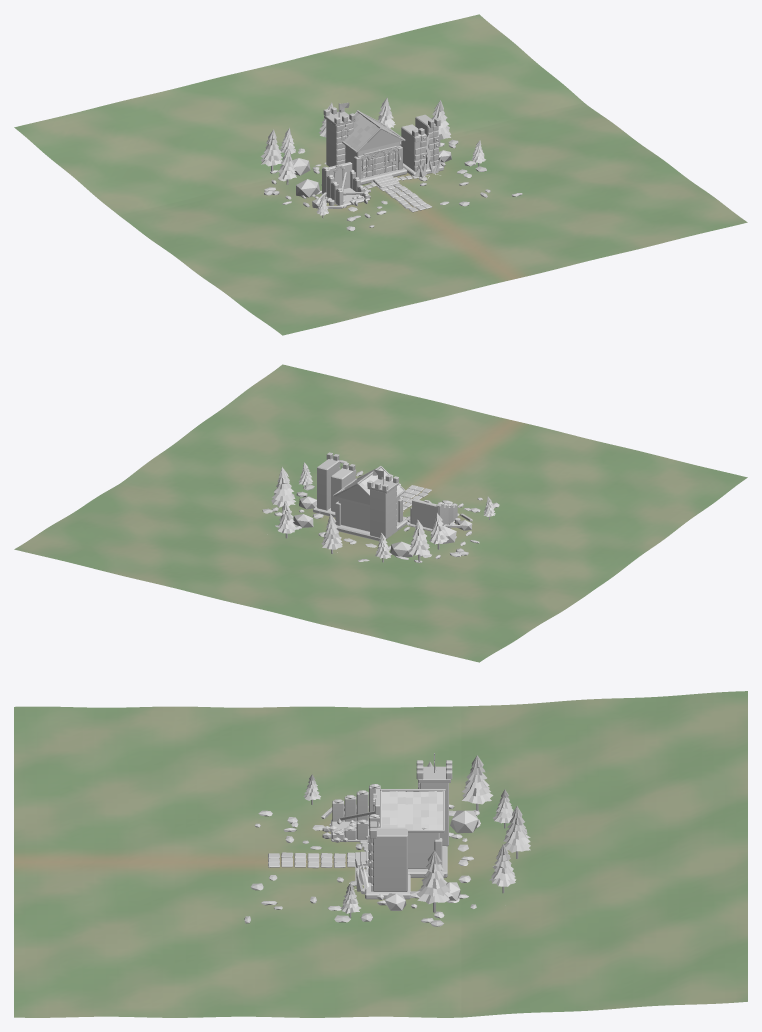
File: Reboot_Pilot.fbx
3 views of the same model, one above another, from view 1: azimuth 30°, elevation 25°; view 2: azimuth 150°, elevation 25°; view 3: azimuth 270°, elevation 25° (orthographic). The views are drawn at different scales.
Visible parts, largest first — view 1: Terrain, 01_Reclaimed_Hall, 03_Corrupted_Watchtower, 02_Roofless_Ruin; view 2: Terrain, 01_Reclaimed_Hall, 03_Corrupted_Watchtower, 02_Roofless_Ruin; view 3: Terrain, 01_Reclaimed_Hall, 03_Corrupted_Watchtower, 02_Roofless_Ruin.
Boxes of the visible parts, x1,y1,x2,y2 form: Terrain: (14,14,747,335); 01_Reclaimed_Hall: (323,102,407,187); 03_Corrupted_Watchtower: (401,114,443,178); 02_Roofless_Ruin: (321,162,370,206); Terrain: (14,364,747,662); 01_Reclaimed_Hall: (333,466,407,541); 03_Corrupted_Watchtower: (313,452,356,517); 02_Roofless_Ruin: (408,499,457,531); Terrain: (14,691,747,1017); 01_Reclaimed_Hall: (355,753,452,877); 03_Corrupted_Watchtower: (349,821,410,899); 02_Roofless_Ruin: (322,784,380,842).
Bounding box in the file's own units: 4800 × 727 × 4800.
